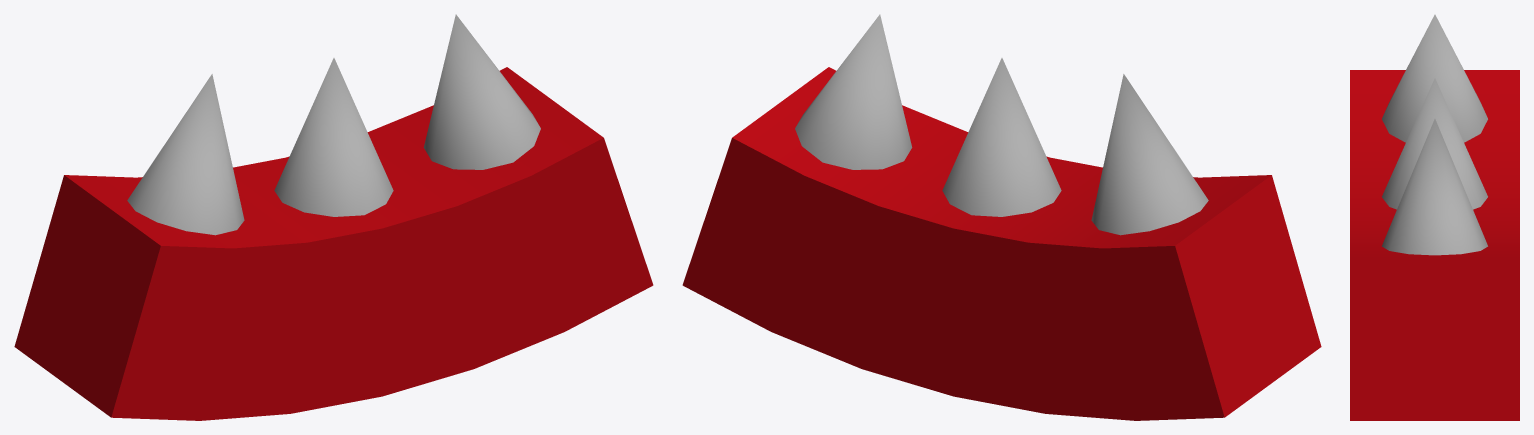
The picture shows the model from 3 angles, left to right: view 1: azimuth 30°, elevation 25°; view 2: azimuth 150°, elevation 25°; view 3: azimuth 270°, elevation 25°; orthographic projection. The views are drawn at different scales.
Visible parts, largest first — view 1: Torus.002; view 2: Torus.002; view 3: Torus.002.
Boxes of the visible parts, <box> form: Torus.002: <box>14,14,653,420</box>; Torus.002: <box>682,14,1321,420</box>; Torus.002: <box>1350,14,1519,420</box>.
Size of the model in its own units: 64.67 by 36.17 by 20.
